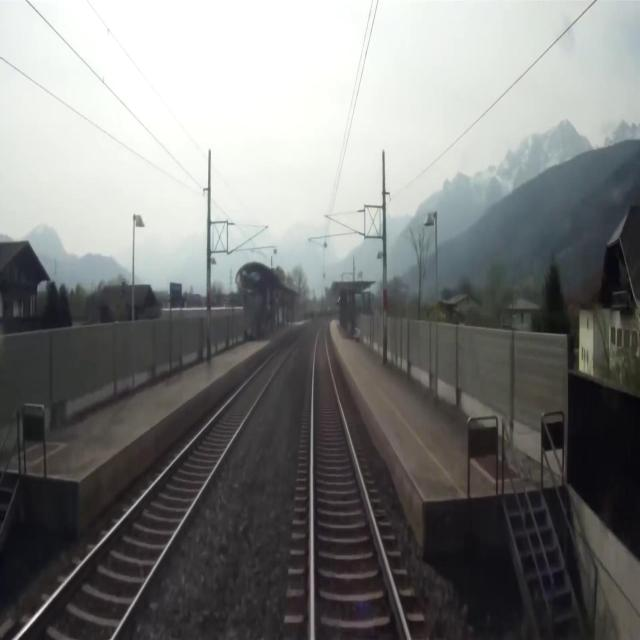rail-track: (19, 334, 298, 639), (313, 322, 403, 639)
